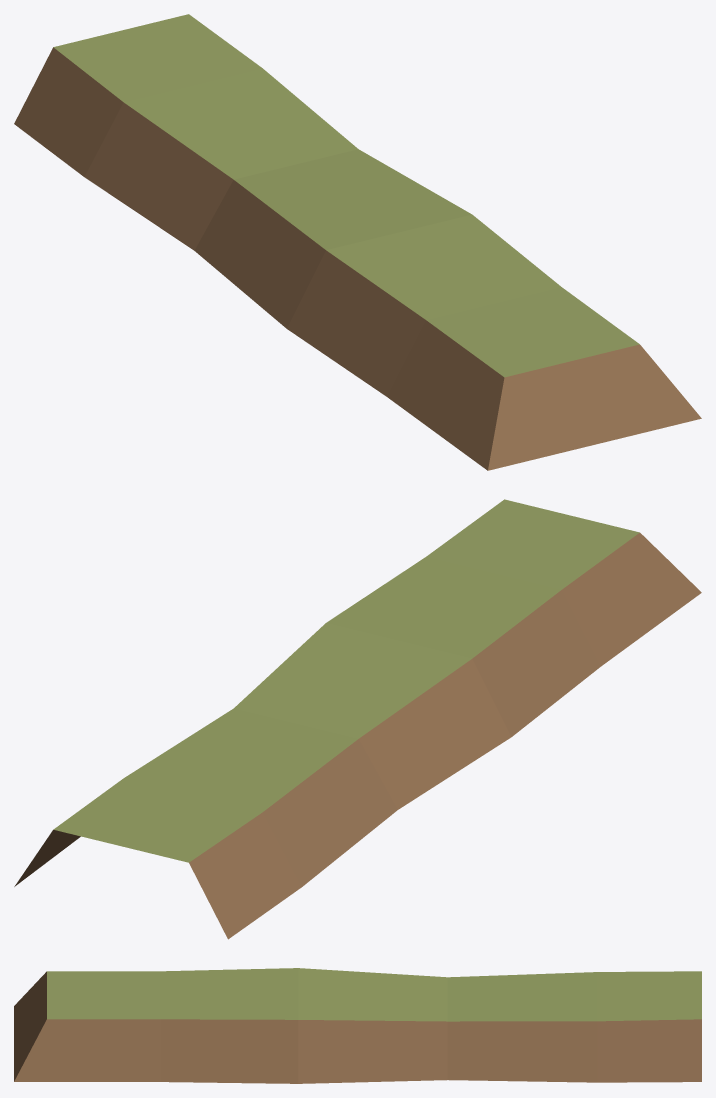
Rendered from Varambu_End.glb.
3 renders of one model, top to bottom at view 1: azimuth 30°, elevation 25°; view 2: azimuth 150°, elevation 25°; view 3: azimuth 270°, elevation 25°, orthographic. The views are drawn at different scales.
Visible parts, largest first — view 1: Varambu_End; view 2: Varambu_End; view 3: Varambu_End.
Boxes of the visible parts, x1,y1,x2,y2 form: Varambu_End: [14, 14, 701, 470]; Varambu_End: [14, 499, 701, 939]; Varambu_End: [14, 968, 701, 1083].
Bounding box in the file's own units: 0.63 × 0.185 × 2.3.
